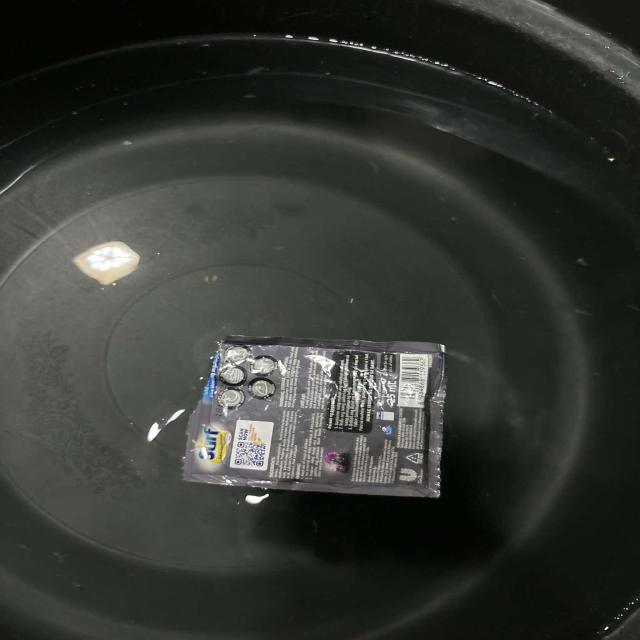Plastic Wrapper: (183, 336, 446, 498)
